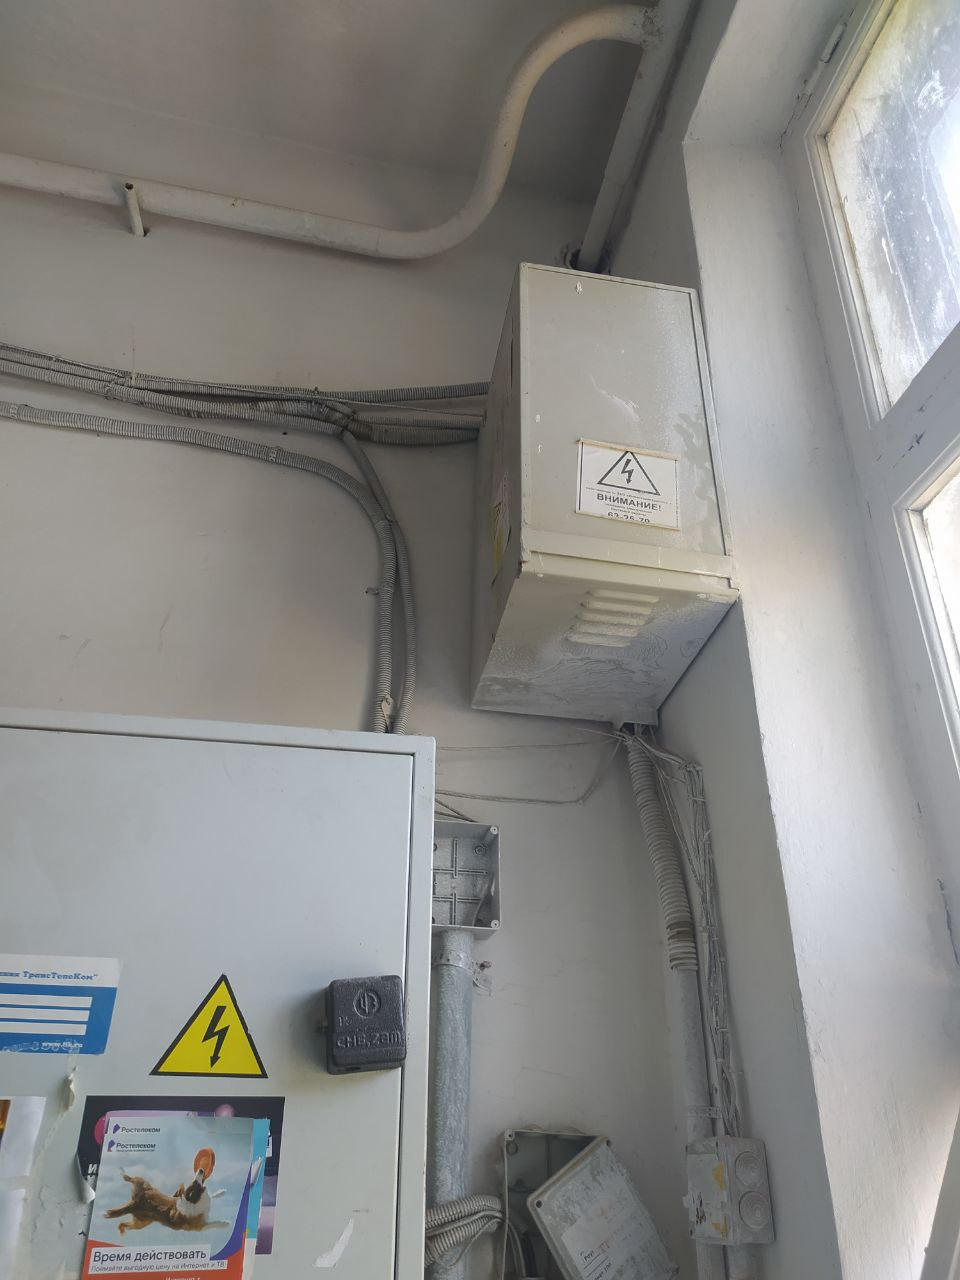sv-5: (465, 257, 744, 730)
